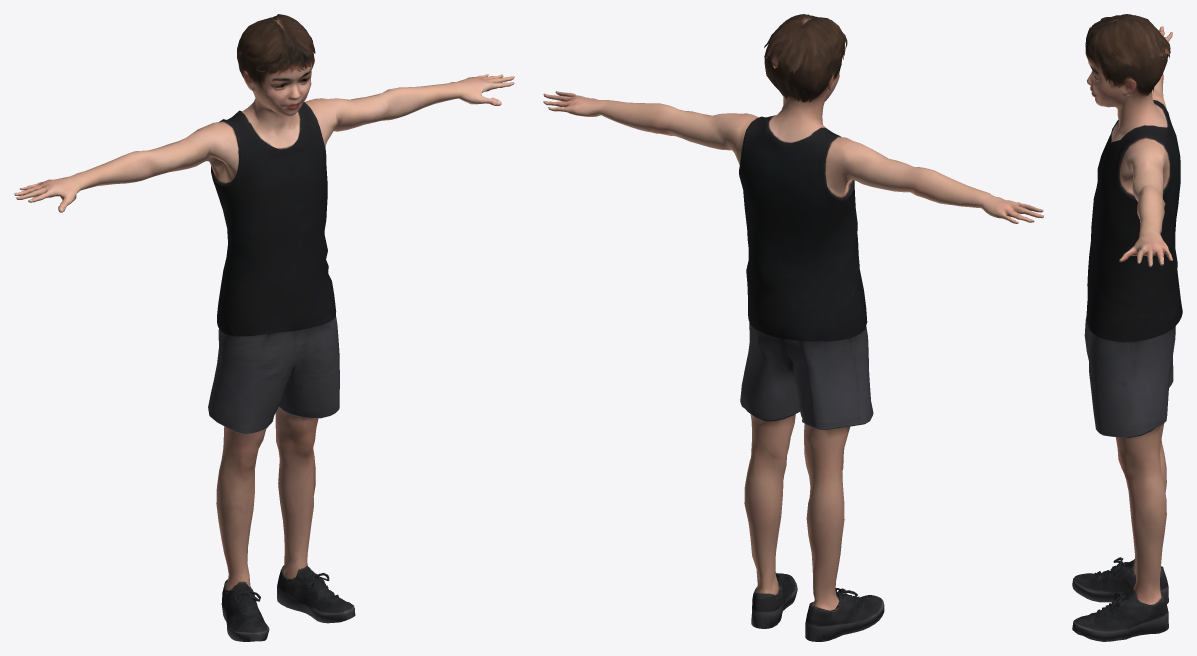
File: meshy-model-2026-11-13T06-34-41-877Z.glb
3 views of the same model, side by side, from view 1: azimuth 30°, elevation 25°; view 2: azimuth 150°, elevation 25°; view 3: azimuth 270°, elevation 25° (orthographic).
Size of the model in its own units: 0.8252 by 0.9507 by 0.1592.
Materials: 1 (1 with a texture image).
